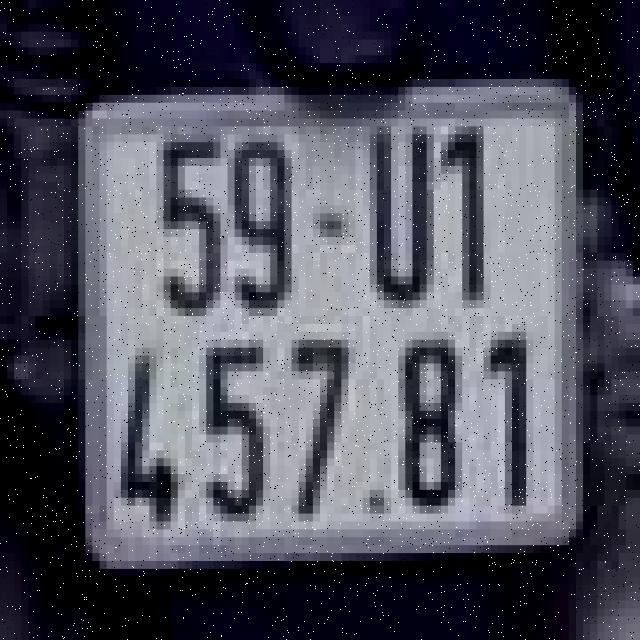1: (476, 308, 540, 506), (441, 115, 498, 304)
4: (114, 328, 192, 533)
5: (146, 119, 224, 316), (192, 324, 263, 529)
7: (284, 312, 356, 526)
8: (388, 324, 458, 514)
9: (228, 126, 306, 324)
U: (356, 103, 434, 308)
